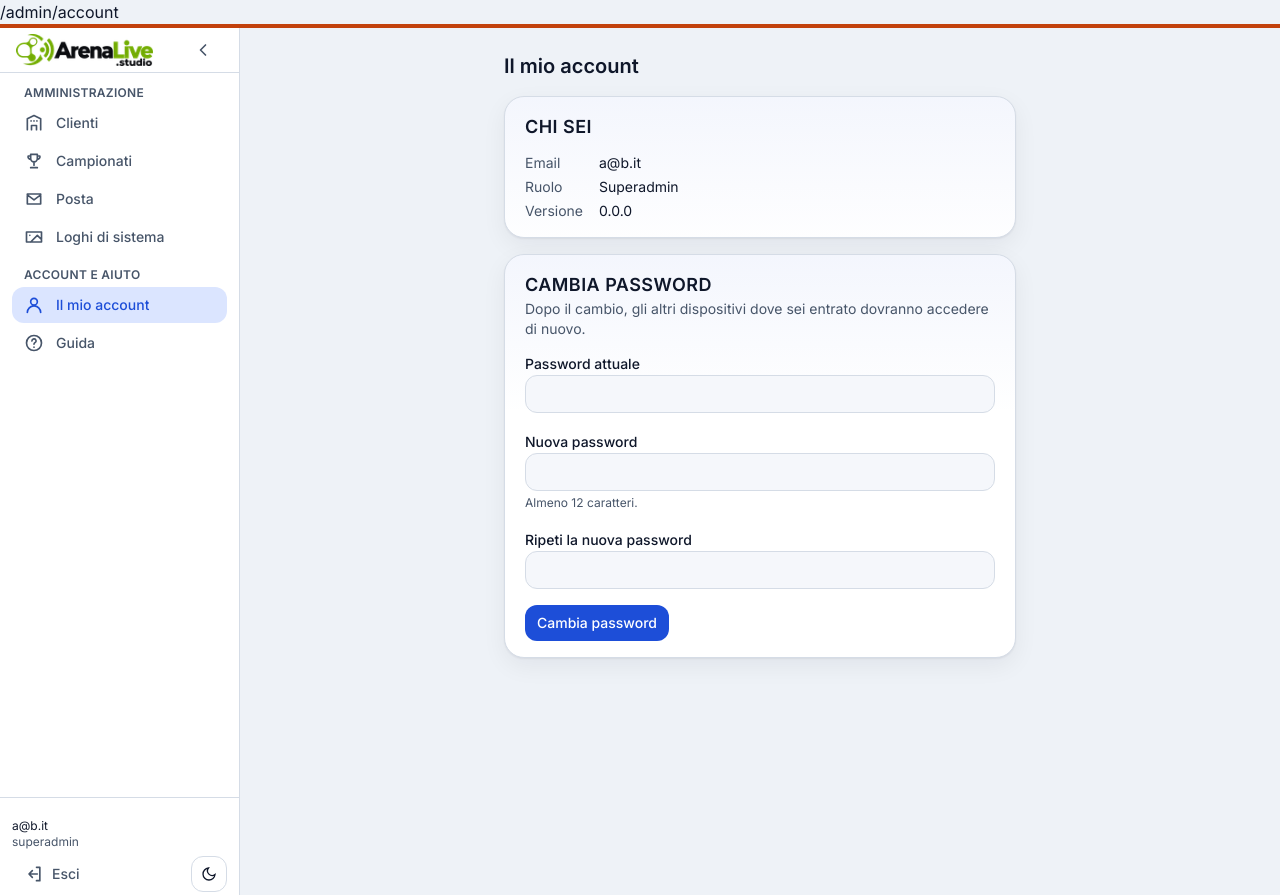
Scenario: admin navigation › lets the superadmin outside any client open «Il mio account» and «Guida» without being sent away
Expected: the heading "Il mio account" is shown, [504, 54, 639, 78]
Click the link "Guida": coordinates (60, 343) [24, 333, 95, 353]
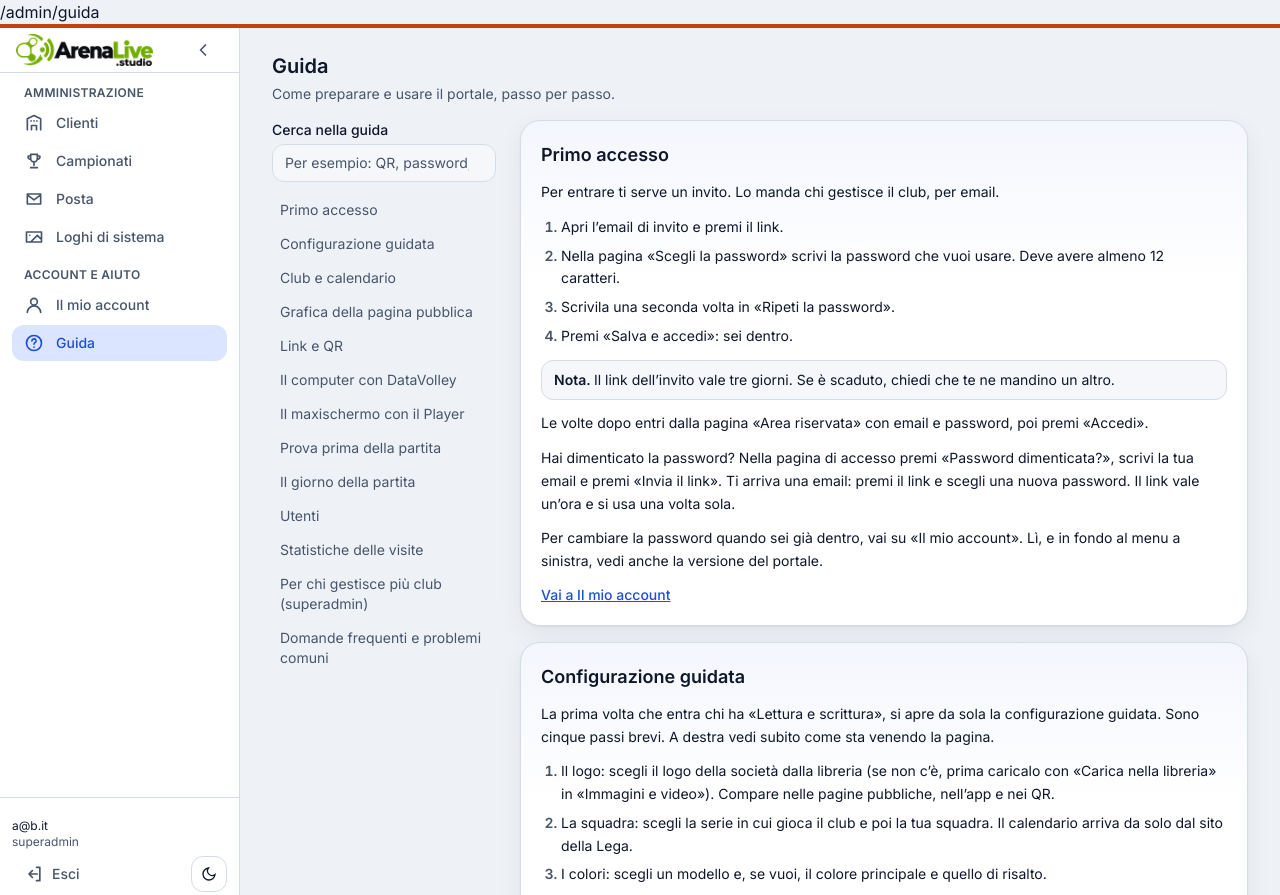
Expected: the heading "Guida" is shown, [272, 54, 328, 78]
Expected: the text with test id "where" reads "/admin/guida", [0, 2, 100, 22]
